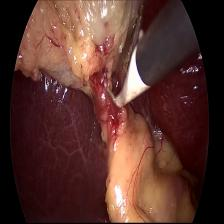Hook: (106, 46, 151, 118)
